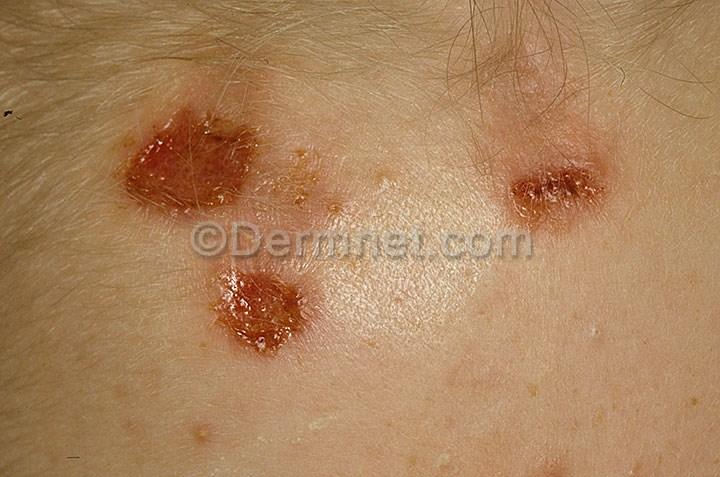Eczema: (88, 80, 275, 238), (476, 105, 625, 261), (189, 254, 340, 360), (270, 133, 372, 244), (173, 409, 225, 462)
